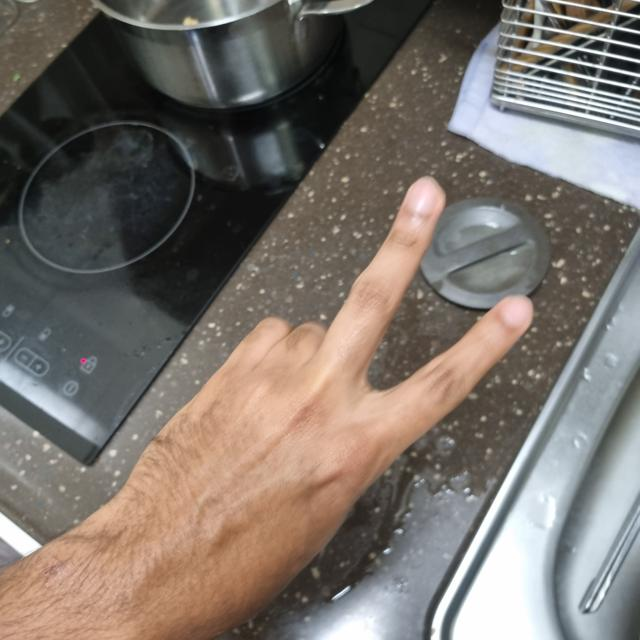Scissors: (114, 186, 527, 635)
